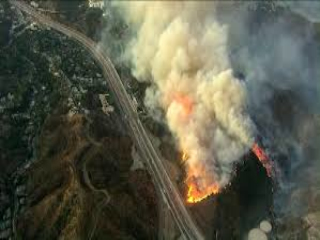fire: (182, 179, 226, 203)
smoke: (123, 8, 257, 184)
